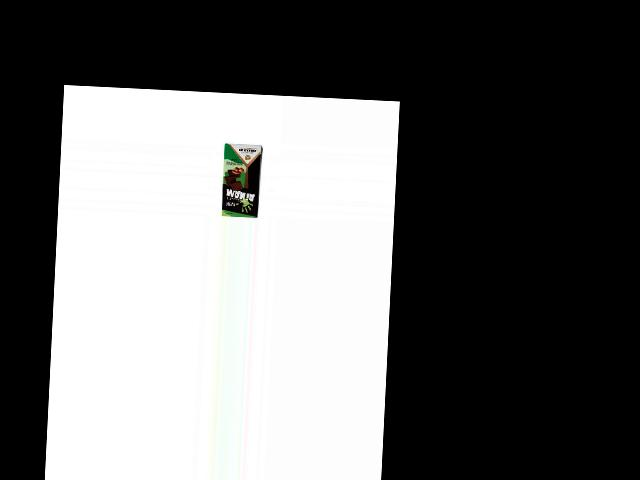chocolate: (219, 141, 263, 219)
